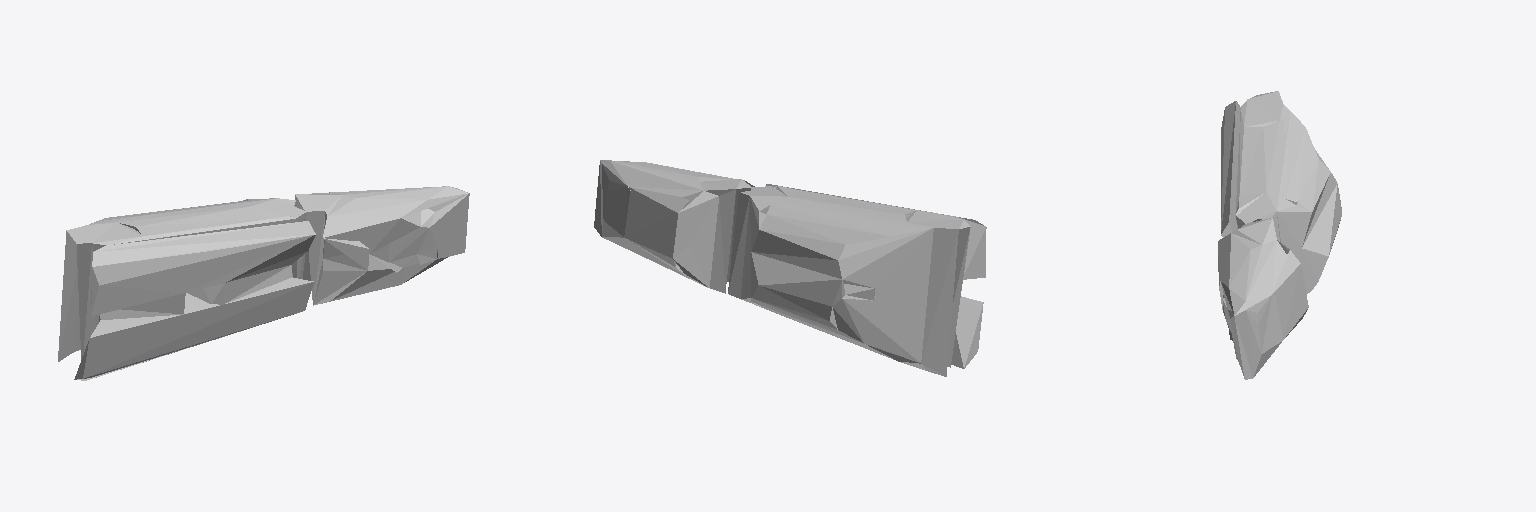
File: fingerTip_blue.obj
3 views of the same model, side by side, from view 1: azimuth 30°, elevation 25°; view 2: azimuth 150°, elevation 25°; view 3: azimuth 270°, elevation 25° (orthographic).
Visible parts, largest first — view 1: Mesh_obj0_obj0.004; view 2: Mesh_obj0_obj0.004; view 3: Mesh_obj0_obj0.004.
Boxes of the visible parts, x1=… form: Mesh_obj0_obj0.004: x1=58, y1=186, x2=469, y2=380; Mesh_obj0_obj0.004: x1=594, y1=160, x2=986, y2=376; Mesh_obj0_obj0.004: x1=1218, y1=91, x2=1341, y2=379.
Bounding box in the file's own units: 0.0682 × 0.0246 × 0.0193.